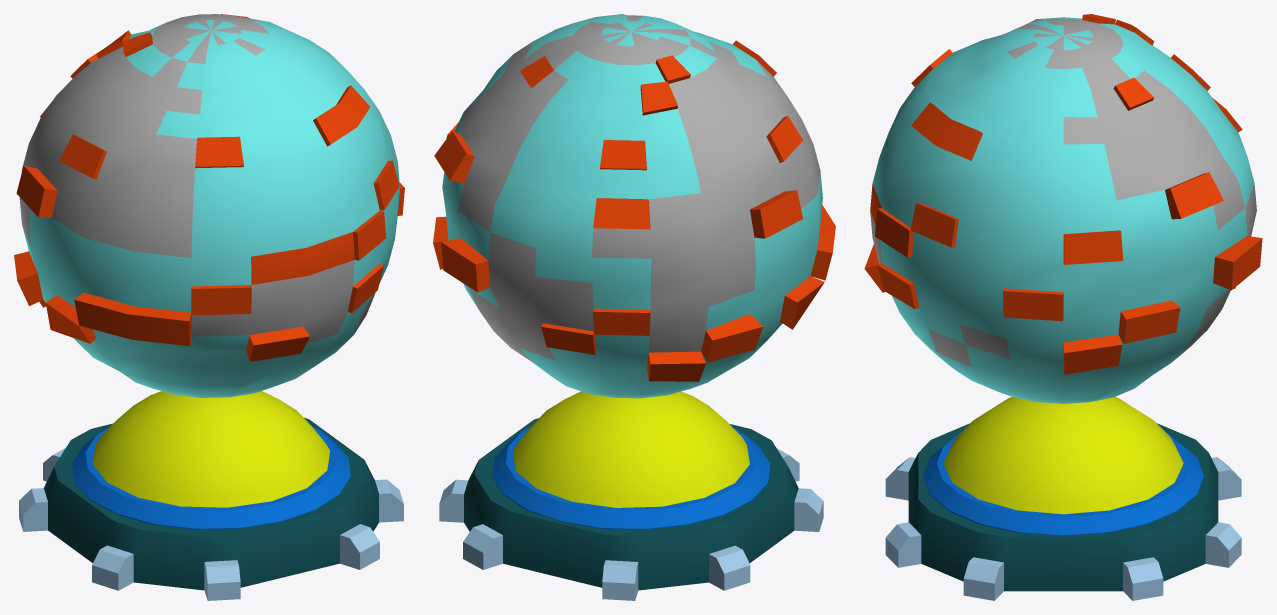
File: Holo_gram_thingy.fbx
The picture shows the model from 3 angles, left to right: view 1: azimuth 30°, elevation 25°; view 2: azimuth 150°, elevation 25°; view 3: azimuth 270°, elevation 25°; orthographic projection.
Visible parts, largest first — view 1: Holo_gram_thingy; view 2: Holo_gram_thingy; view 3: Holo_gram_thingy.
Boxes of the visible parts, x1,y1,x2,y2 form: Holo_gram_thingy: (14, 14, 404, 600); Holo_gram_thingy: (433, 14, 835, 600); Holo_gram_thingy: (864, 14, 1262, 600).
Bounding box in the file's own units: 3.2 × 4.33 × 3.19.
